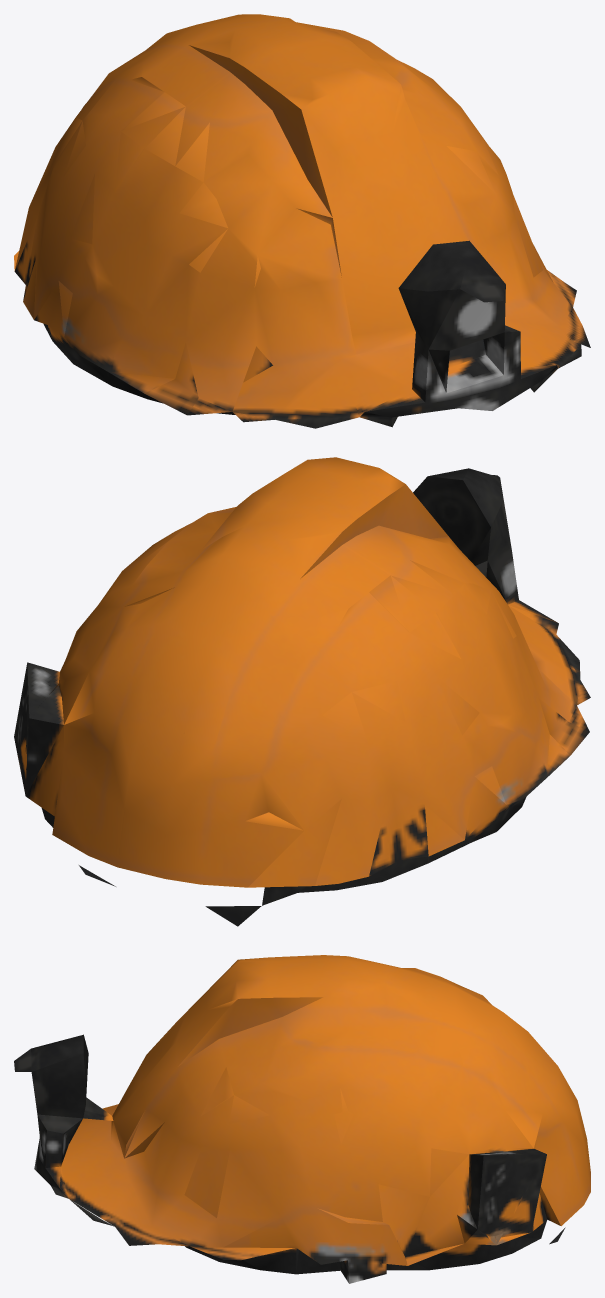
Rendered from helmet.glb.
3 renders of one model, top to bottom at view 1: azimuth 30°, elevation 25°; view 2: azimuth 150°, elevation 25°; view 3: azimuth 270°, elevation 25°, orthographic. The views are drawn at different scales.
Visible parts, largest first — view 1: mesh; view 2: mesh; view 3: mesh.
Boxes of the visible parts, x1,y1,x2,y2 form: mesh: (14,14,590,428); mesh: (14,457,590,926); mesh: (14,955,590,1283).
Size of the model in its own units: 0.2286 by 0.152 by 0.3134.
Materials: 1 (1 with a texture image).
